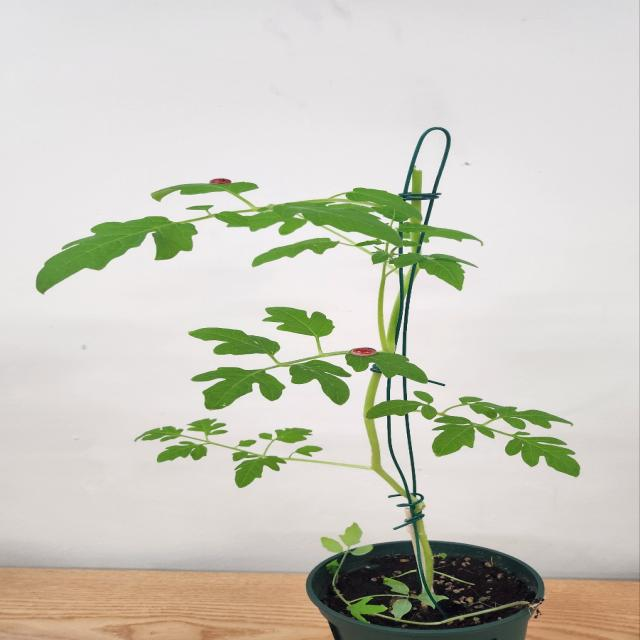bug: (194, 168, 246, 196), (343, 343, 388, 365)
